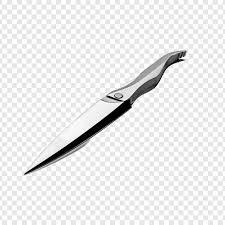Knife: (23, 48, 186, 175)
